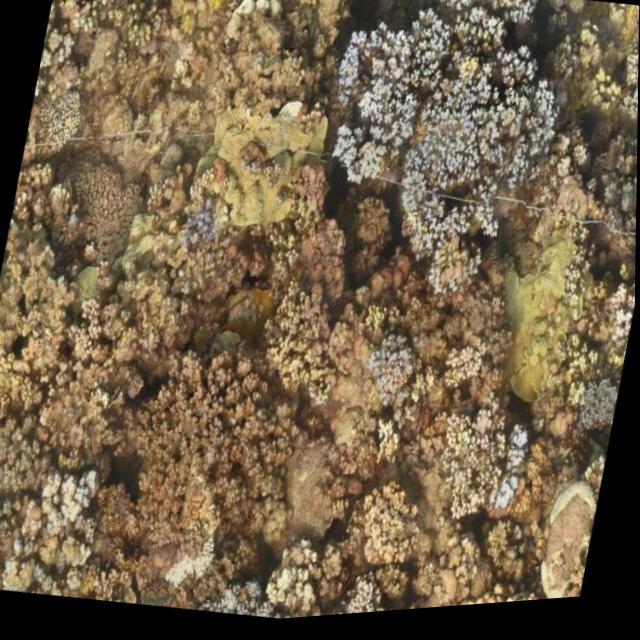Bleached Coral: (401, 53, 563, 267), (328, 2, 463, 200), (483, 419, 539, 531), (29, 76, 97, 162), (361, 324, 424, 411), (172, 192, 229, 265), (159, 533, 218, 599), (0, 438, 10, 566), (74, 468, 102, 502)
